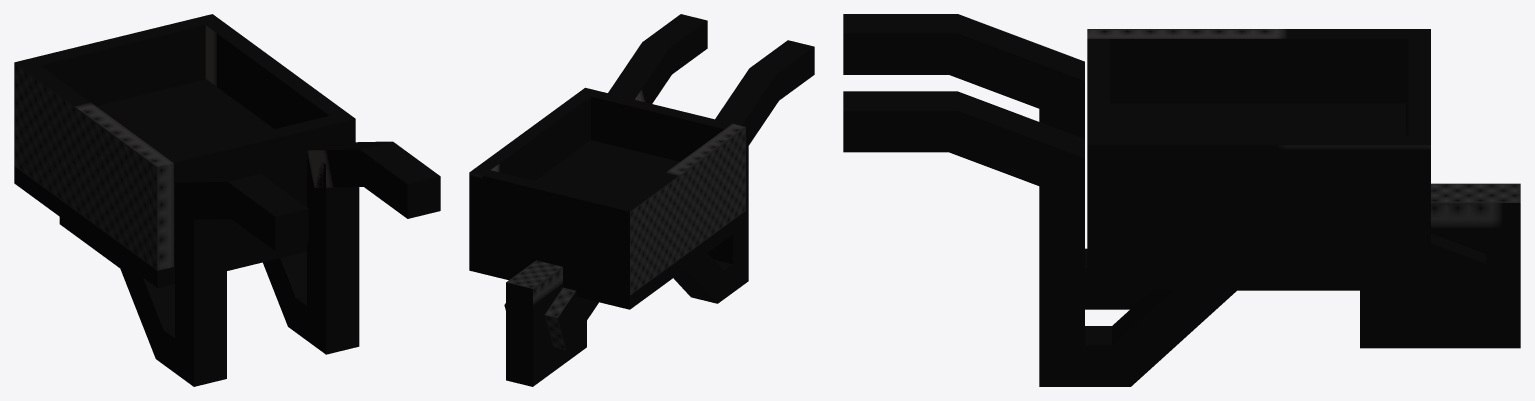
The model's file is Wheelbarrow.obj.
3 renders of one model, left to right at view 1: azimuth 30°, elevation 25°; view 2: azimuth 150°, elevation 25°; view 3: azimuth 270°, elevation 25°, orthographic. The views are drawn at different scales.
Parts seen in each view (by area): view 1: cube; view 2: cube; view 3: cube.
Part boxes in pixels (x1,y1,x2,y2): cube: [14, 14, 440, 386]; cube: [469, 14, 814, 386]; cube: [843, 14, 1520, 386].
Size of the model in its own units: 0.75 by 0.831 by 1.85.
